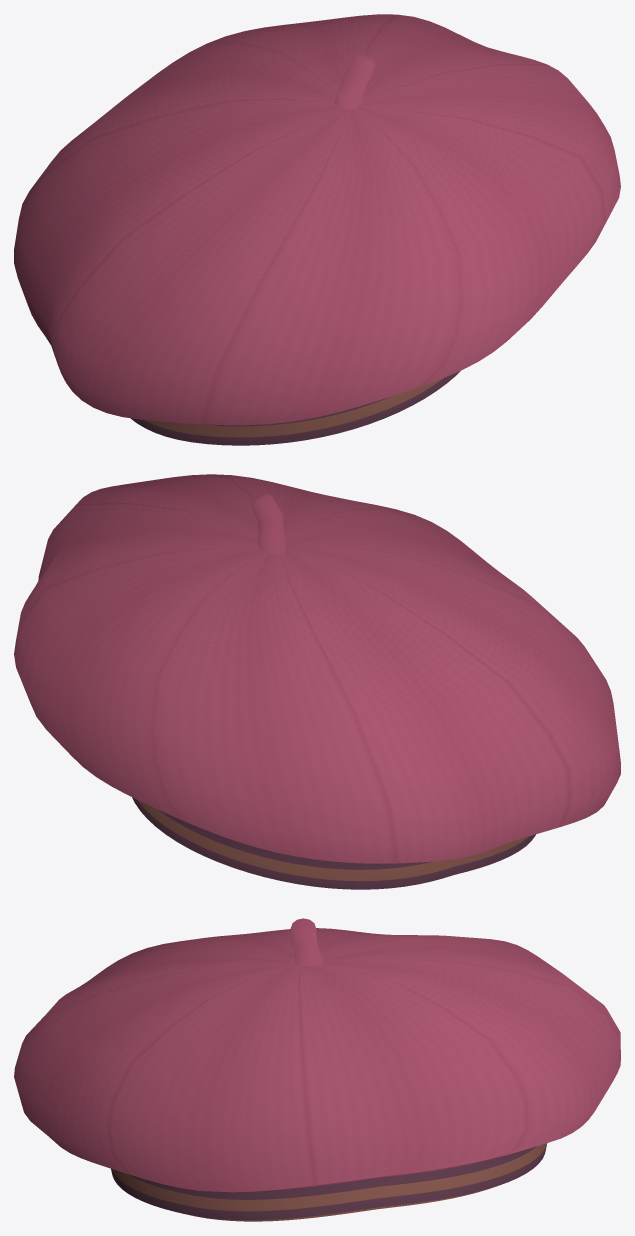
File: wear-hat-bramble-beret.glb
The picture shows the model from 3 angles, top to bottom: view 1: azimuth 30°, elevation 25°; view 2: azimuth 150°, elevation 25°; view 3: azimuth 270°, elevation 25°; orthographic projection. The views are drawn at different scales.
Visible parts, largest first — view 1: wear-hat-bramble-beret; view 2: wear-hat-bramble-beret; view 3: wear-hat-bramble-beret.
Boxes of the visible parts, bbox=[...] form: wear-hat-bramble-beret: bbox=[14, 14, 620, 445]; wear-hat-bramble-beret: bbox=[14, 474, 620, 889]; wear-hat-bramble-beret: bbox=[14, 918, 620, 1221].
Bounding box in the file's own units: 0.2973 × 0.1634 × 0.2881.
Materials: 1 (1 with a texture image).
